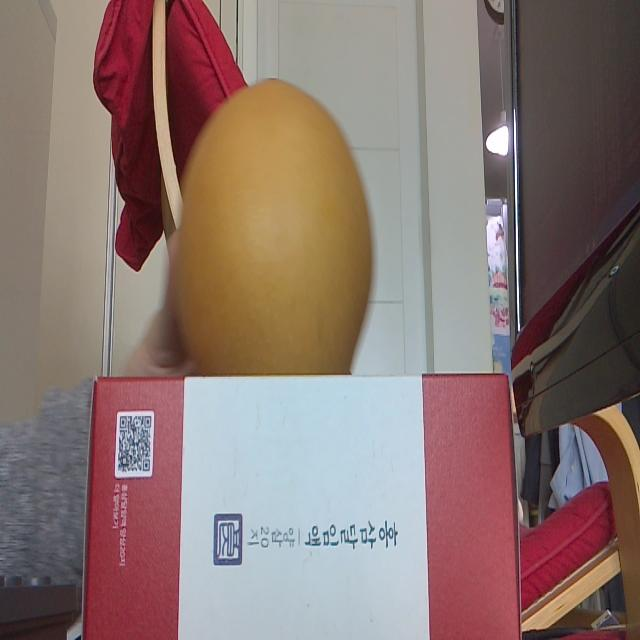pear: (172, 72, 374, 381)
